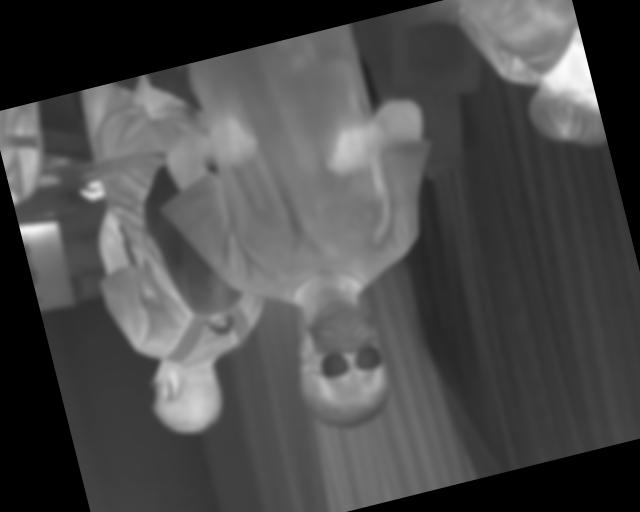face: (280, 291, 402, 438)
